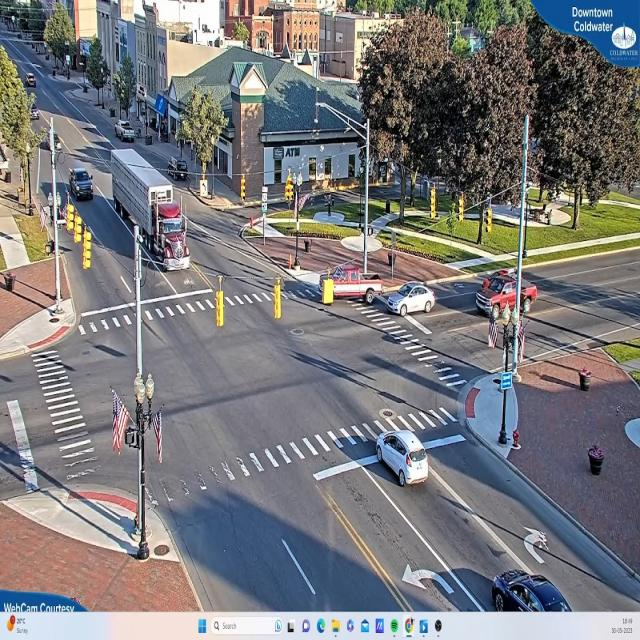car: (407, 566, 495, 614), (374, 428, 430, 487), (496, 572, 574, 612), (381, 282, 435, 315), (73, 168, 94, 202), (117, 121, 137, 144)
